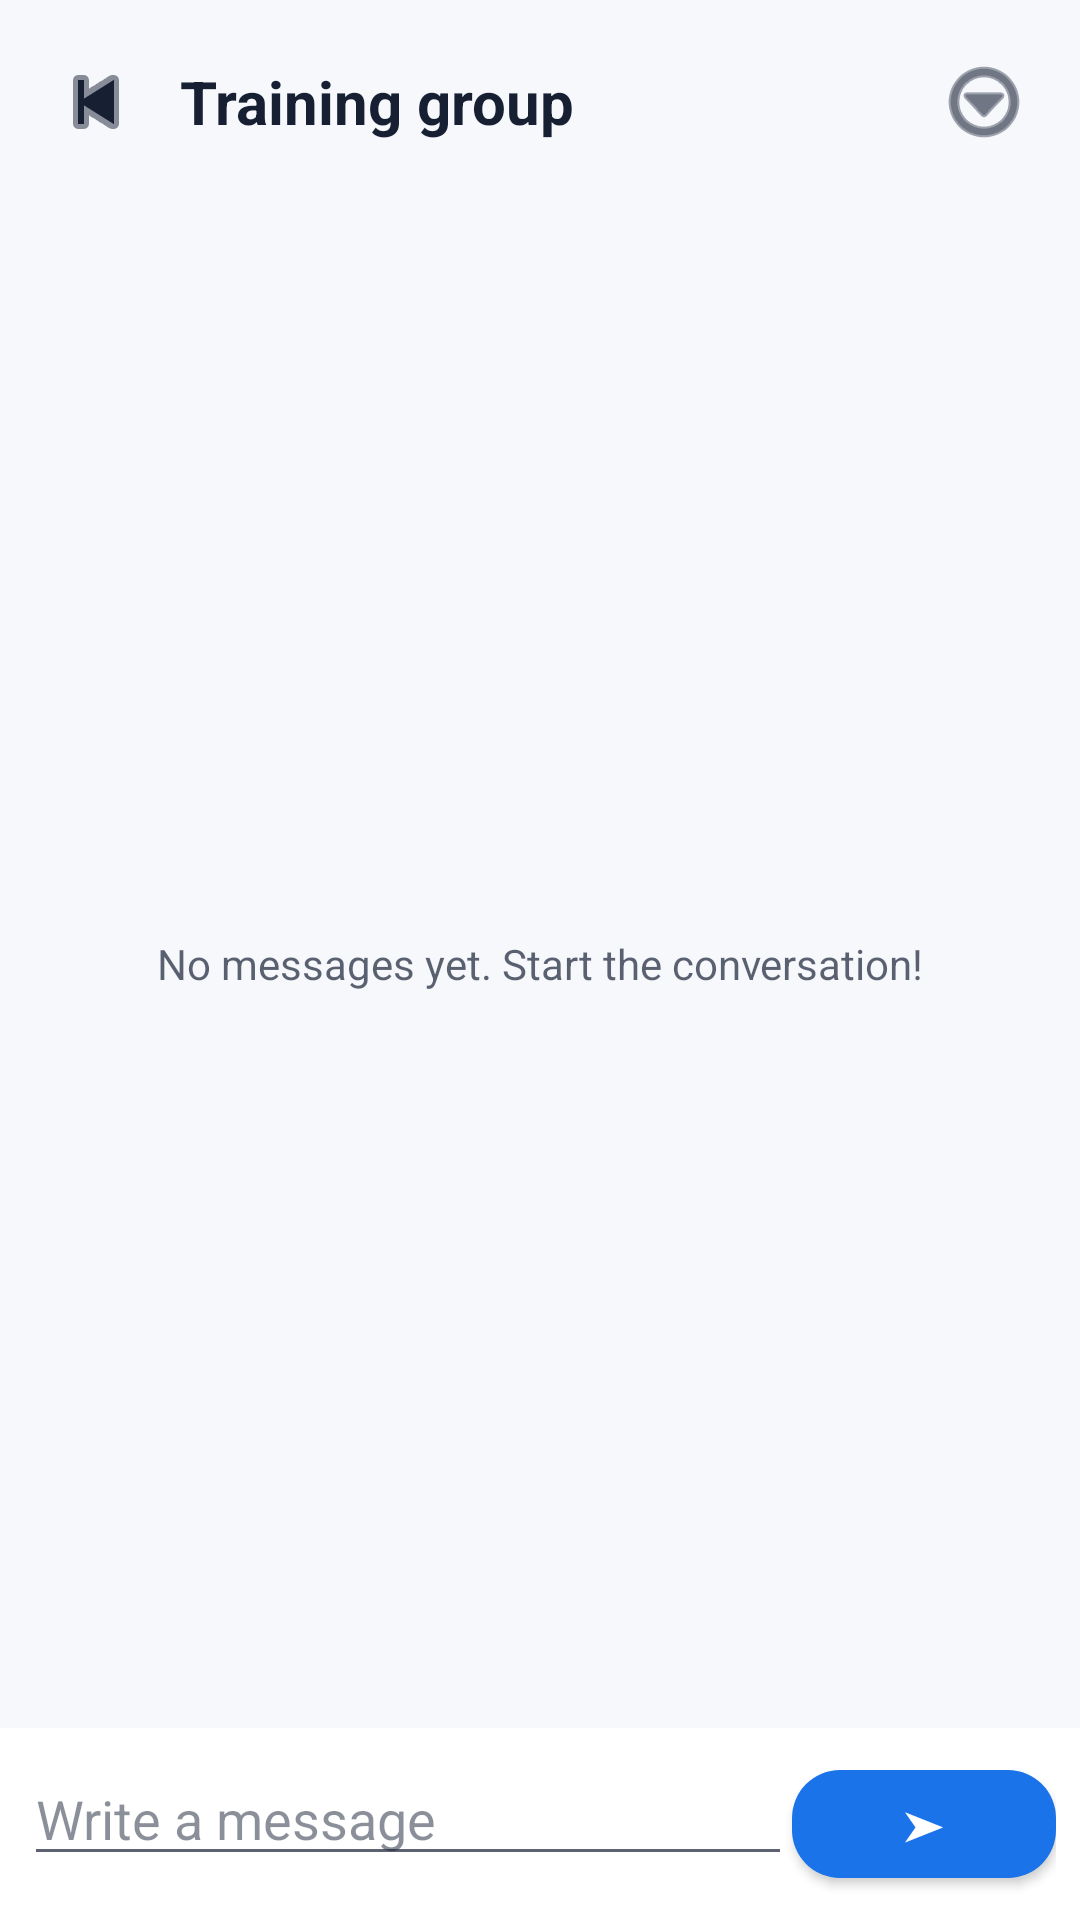

Icons on this 1080x1920 Android screen, each with its box as (x1, y1, x2, y2):
Back: (73, 75, 119, 129)
